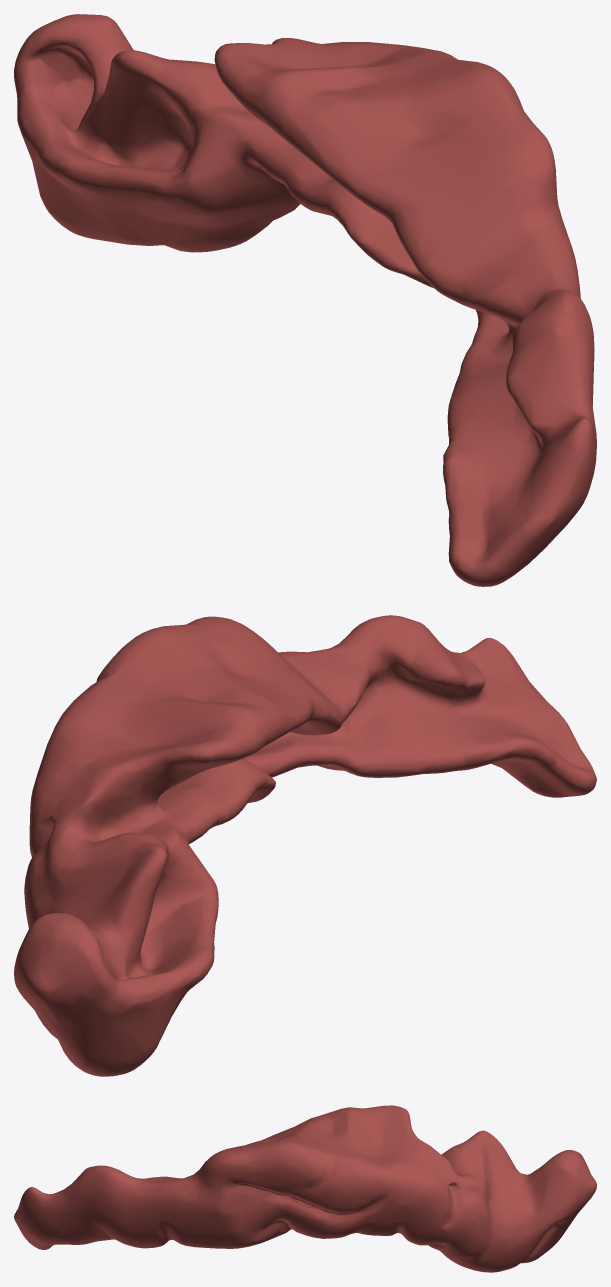
Rendered from FMA72686.glb.
3 renders of one model, top to bottom at view 1: azimuth 30°, elevation 25°; view 2: azimuth 150°, elevation 25°; view 3: azimuth 270°, elevation 25°, orthographic. The views are drawn at different scales.
Visible parts, largest first — view 1: FMA72686; view 2: FMA72686; view 3: FMA72686.
Part boxes in pixels (x1=…): FMA72686: x1=14, y1=14, x2=596, y2=586; FMA72686: x1=14, y1=615, x2=596, y2=1076; FMA72686: x1=14, y1=1105, x2=596, y2=1272.
Bounding box in the file's own units: 0.0339 × 0.0321 × 0.1051.
